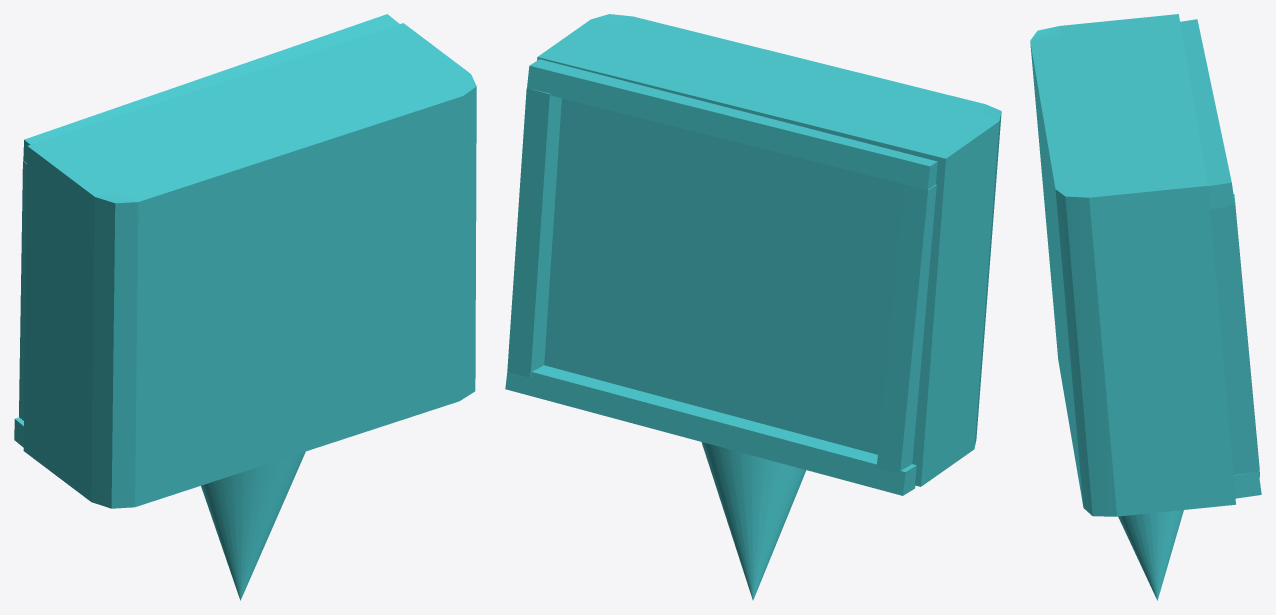
The model's file is plasma ball hologram puzzle lock full hologram.fbx.
3 renders of one model, left to right at view 1: azimuth 30°, elevation 25°; view 2: azimuth 150°, elevation 25°; view 3: azimuth 270°, elevation 25°, orthographic. The views are drawn at different scales.
Parts seen in each view (by area): view 1: 339207f0-a141-45e3-a20b-cc2f7c8ef47a; view 2: 339207f0-a141-45e3-a20b-cc2f7c8ef47a; view 3: 339207f0-a141-45e3-a20b-cc2f7c8ef47a.
Boxes of the visible parts, left/top/right/bottom form: 339207f0-a141-45e3-a20b-cc2f7c8ef47a: left=14, top=14, right=476, bottom=600; 339207f0-a141-45e3-a20b-cc2f7c8ef47a: left=505, top=14, right=1001, bottom=600; 339207f0-a141-45e3-a20b-cc2f7c8ef47a: left=1030, top=14, right=1261, bottom=600.
Size of the model in its own units: 86409 by 103841 by 42979.
